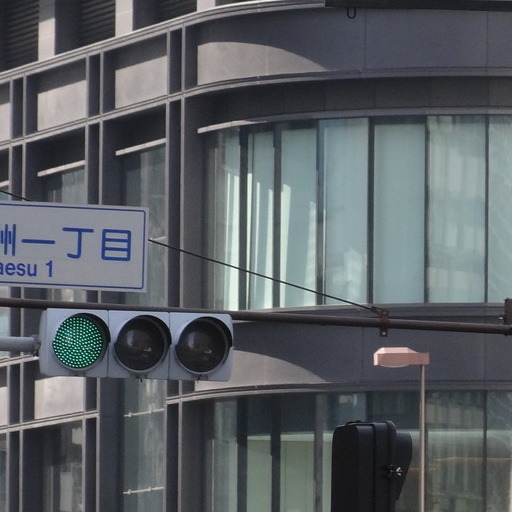Traffic_Signal_Blue: (34, 304, 236, 385)
